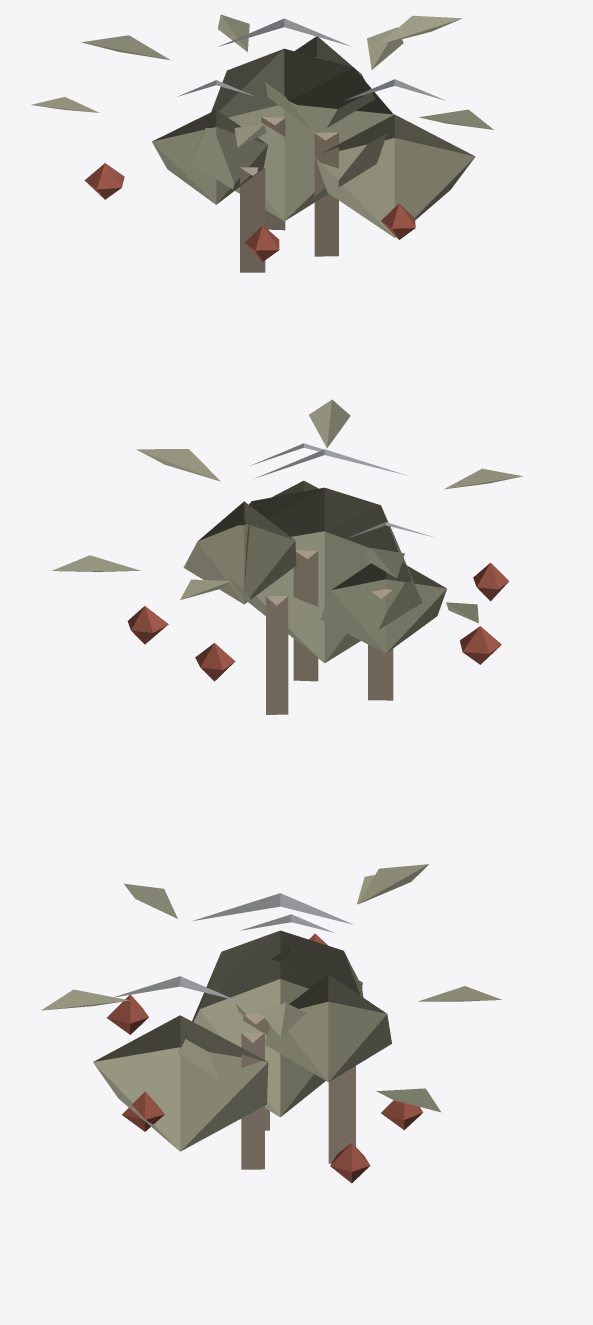
The model's file is guan.yueju__winter.glb.
3 renders of one model, top to bottom at view 1: azimuth 30°, elevation 25°; view 2: azimuth 150°, elevation 25°; view 3: azimuth 270°, elevation 25°, orthographic. The views are drawn at different scales.
Visible parts, largest first — view 1: guan.yueju__winter; view 2: guan.yueju__winter; view 3: guan.yueju__winter.
Part boxes in pixels (box(x1,y1,x2,y2)): guan.yueju__winter: box(31, 14, 493, 272); guan.yueju__winter: box(52, 399, 522, 714); guan.yueju__winter: box(41, 864, 501, 1183).
Size of the model in its own units: 2.35 by 1.09 by 2.11.
